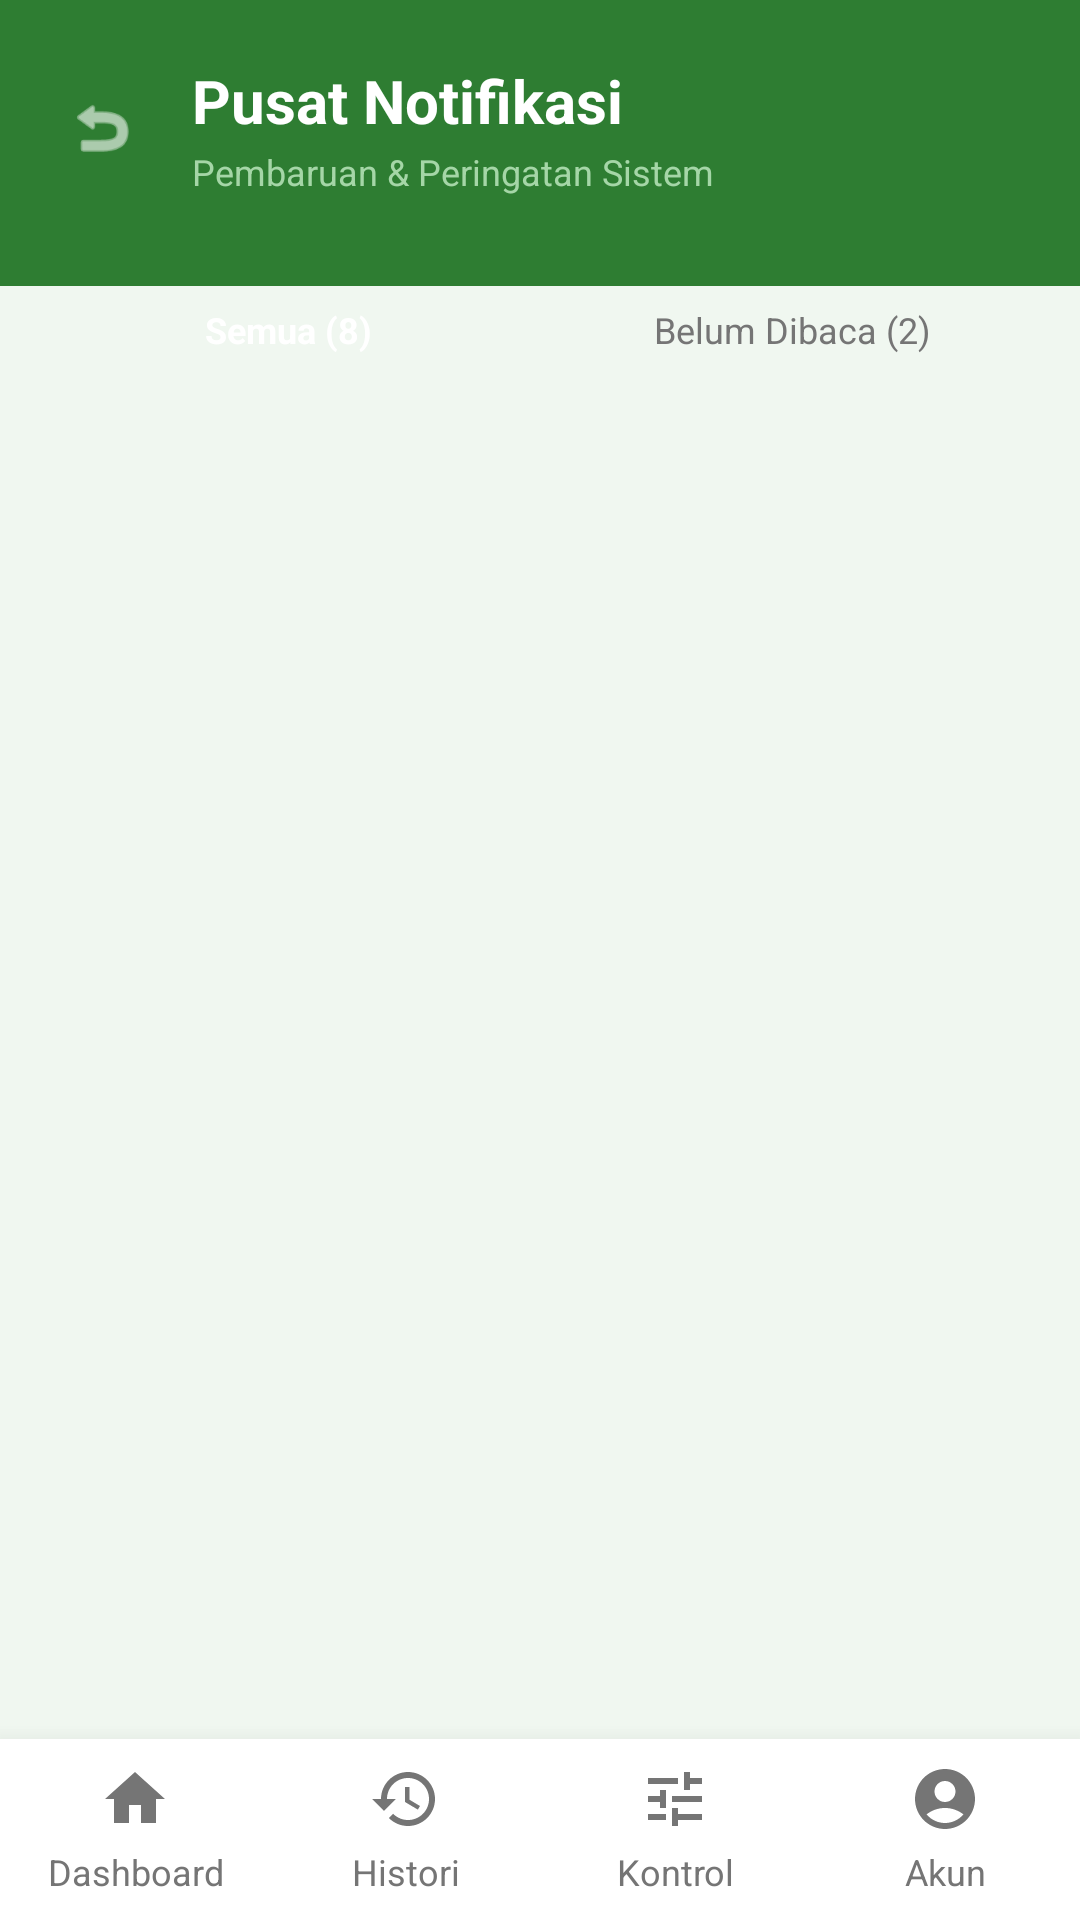

Locate icon controls on the screen. Image size 1080 x 1920, boxes as (x1, y1, x2, y2).
revert: (77, 105, 129, 152)
